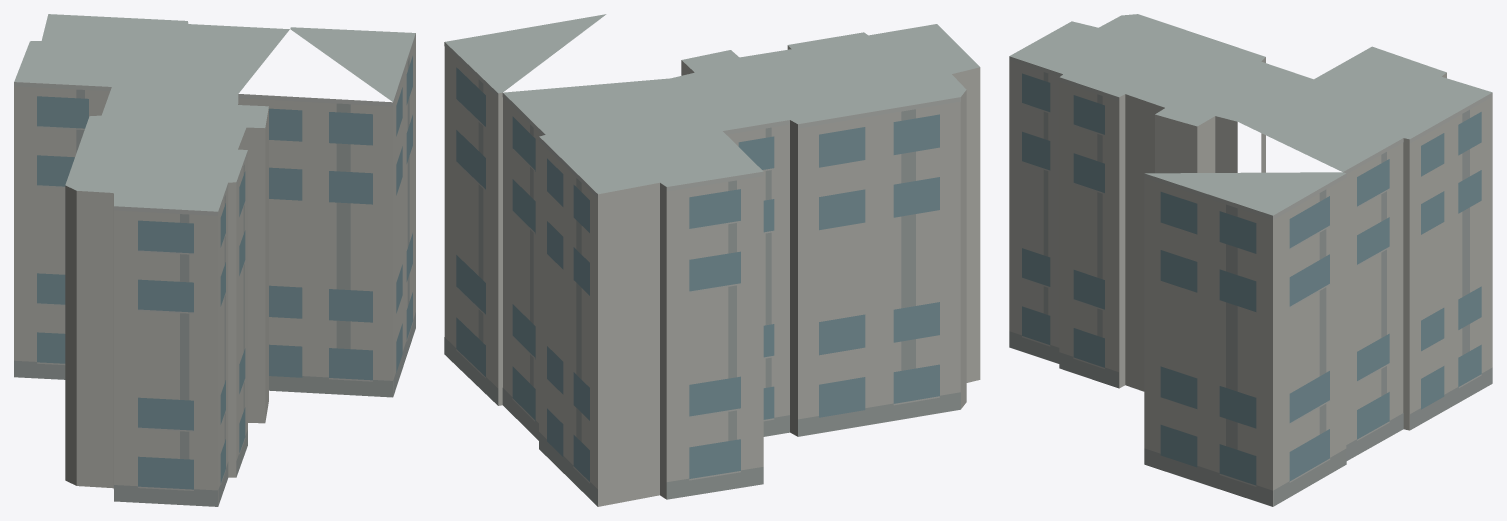
Rendered from survey-upis-32934845.glb.
3 renders of one model, left to right at view 1: azimuth 30°, elevation 25°; view 2: azimuth 150°, elevation 25°; view 3: azimuth 270°, elevation 25°, orthographic. The views are drawn at different scales.
Parts seen in each view (by area): view 1: survey-upis-32934845.tmp; view 2: survey-upis-32934845.tmp; view 3: survey-upis-32934845.tmp.
Part boxes in pixels (<box>): survey-upis-32934845.tmp: <box>14,14,415,506</box>; survey-upis-32934845.tmp: <box>444,14,980,506</box>; survey-upis-32934845.tmp: <box>1009,14,1492,506</box>.
Size of the model in its own units: 24.74 by 16.65 by 25.06.
